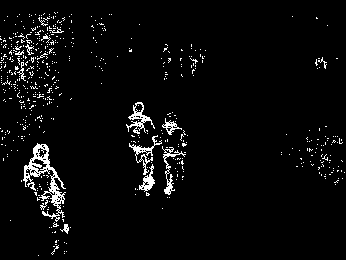person: (23, 141, 69, 255), (128, 101, 158, 194), (158, 111, 188, 197)
